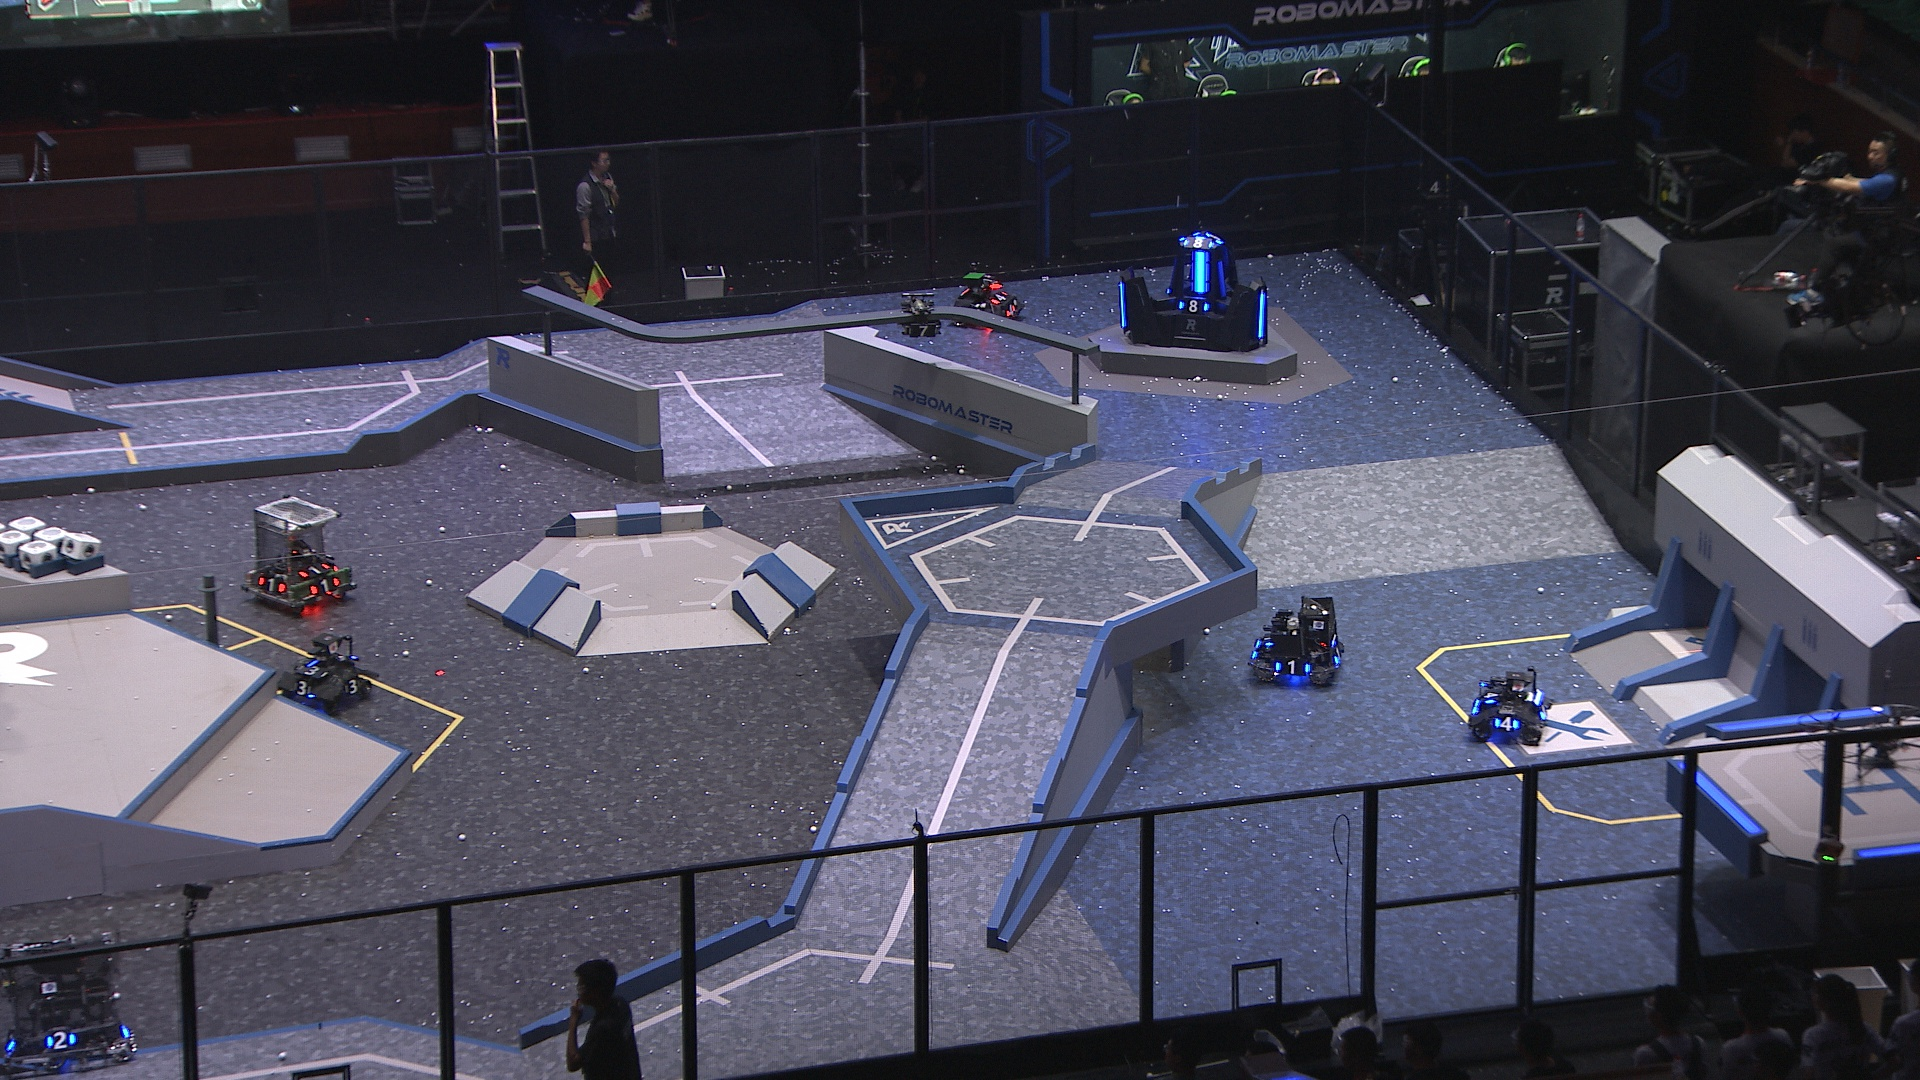armor: (1191, 249, 1211, 294), (1273, 657, 1313, 676), (44, 1030, 78, 1052), (309, 574, 340, 597), (295, 560, 332, 578), (256, 575, 287, 595), (1116, 282, 1129, 328), (1215, 258, 1228, 299), (1257, 291, 1267, 342), (1493, 713, 1519, 733), (1178, 299, 1211, 314), (907, 323, 940, 338), (295, 665, 328, 679), (1182, 237, 1215, 249), (342, 676, 363, 695), (291, 680, 314, 698), (1480, 687, 1501, 704), (1332, 646, 1346, 669), (989, 289, 1007, 306)
base: (1114, 229, 1269, 353)
car: (239, 493, 356, 615), (1247, 595, 1348, 688), (273, 629, 377, 717), (1466, 669, 1555, 746), (949, 270, 1026, 330)
watcher: (898, 290, 942, 342)
